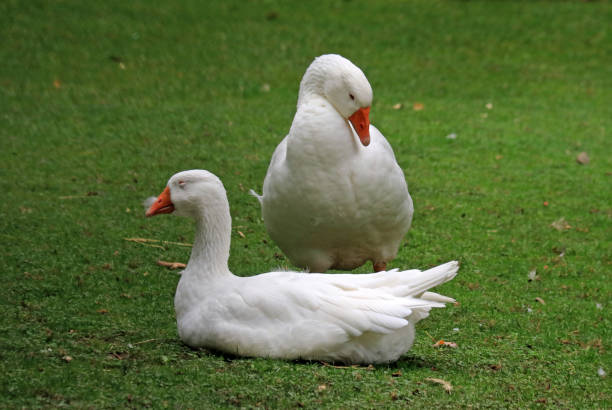goose: (133, 164, 473, 370), (249, 37, 425, 271)
